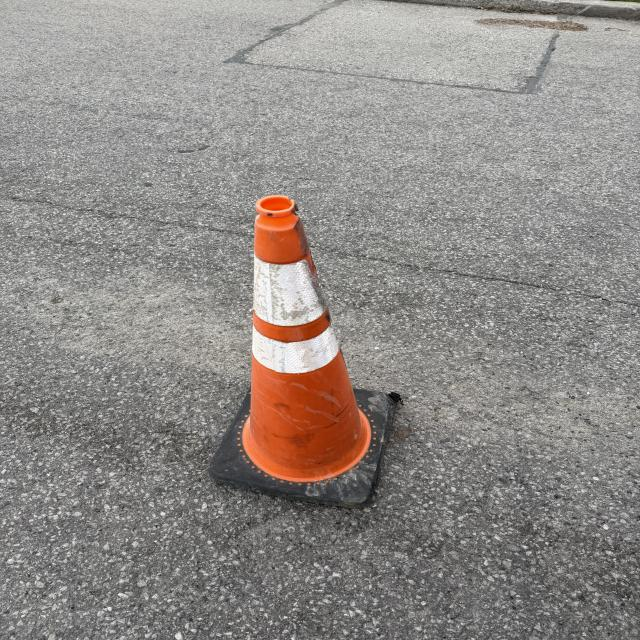Traffic Cone: (198, 196, 402, 509)
